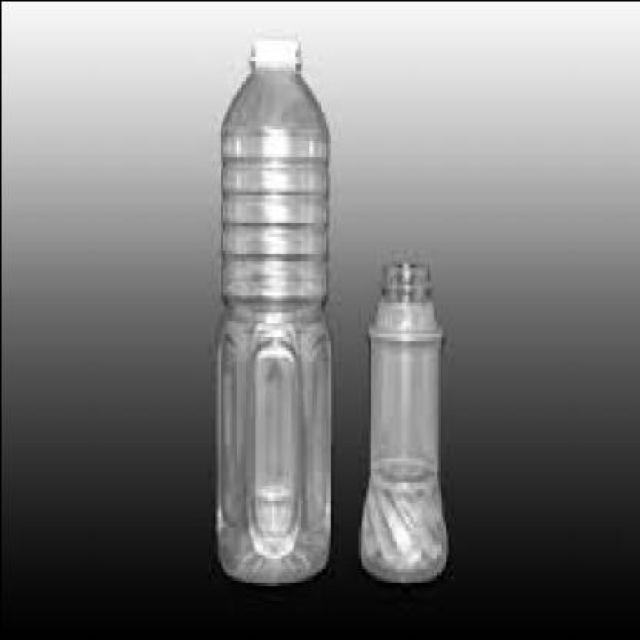PLASTIC: (211, 28, 327, 582), (356, 256, 444, 584)
